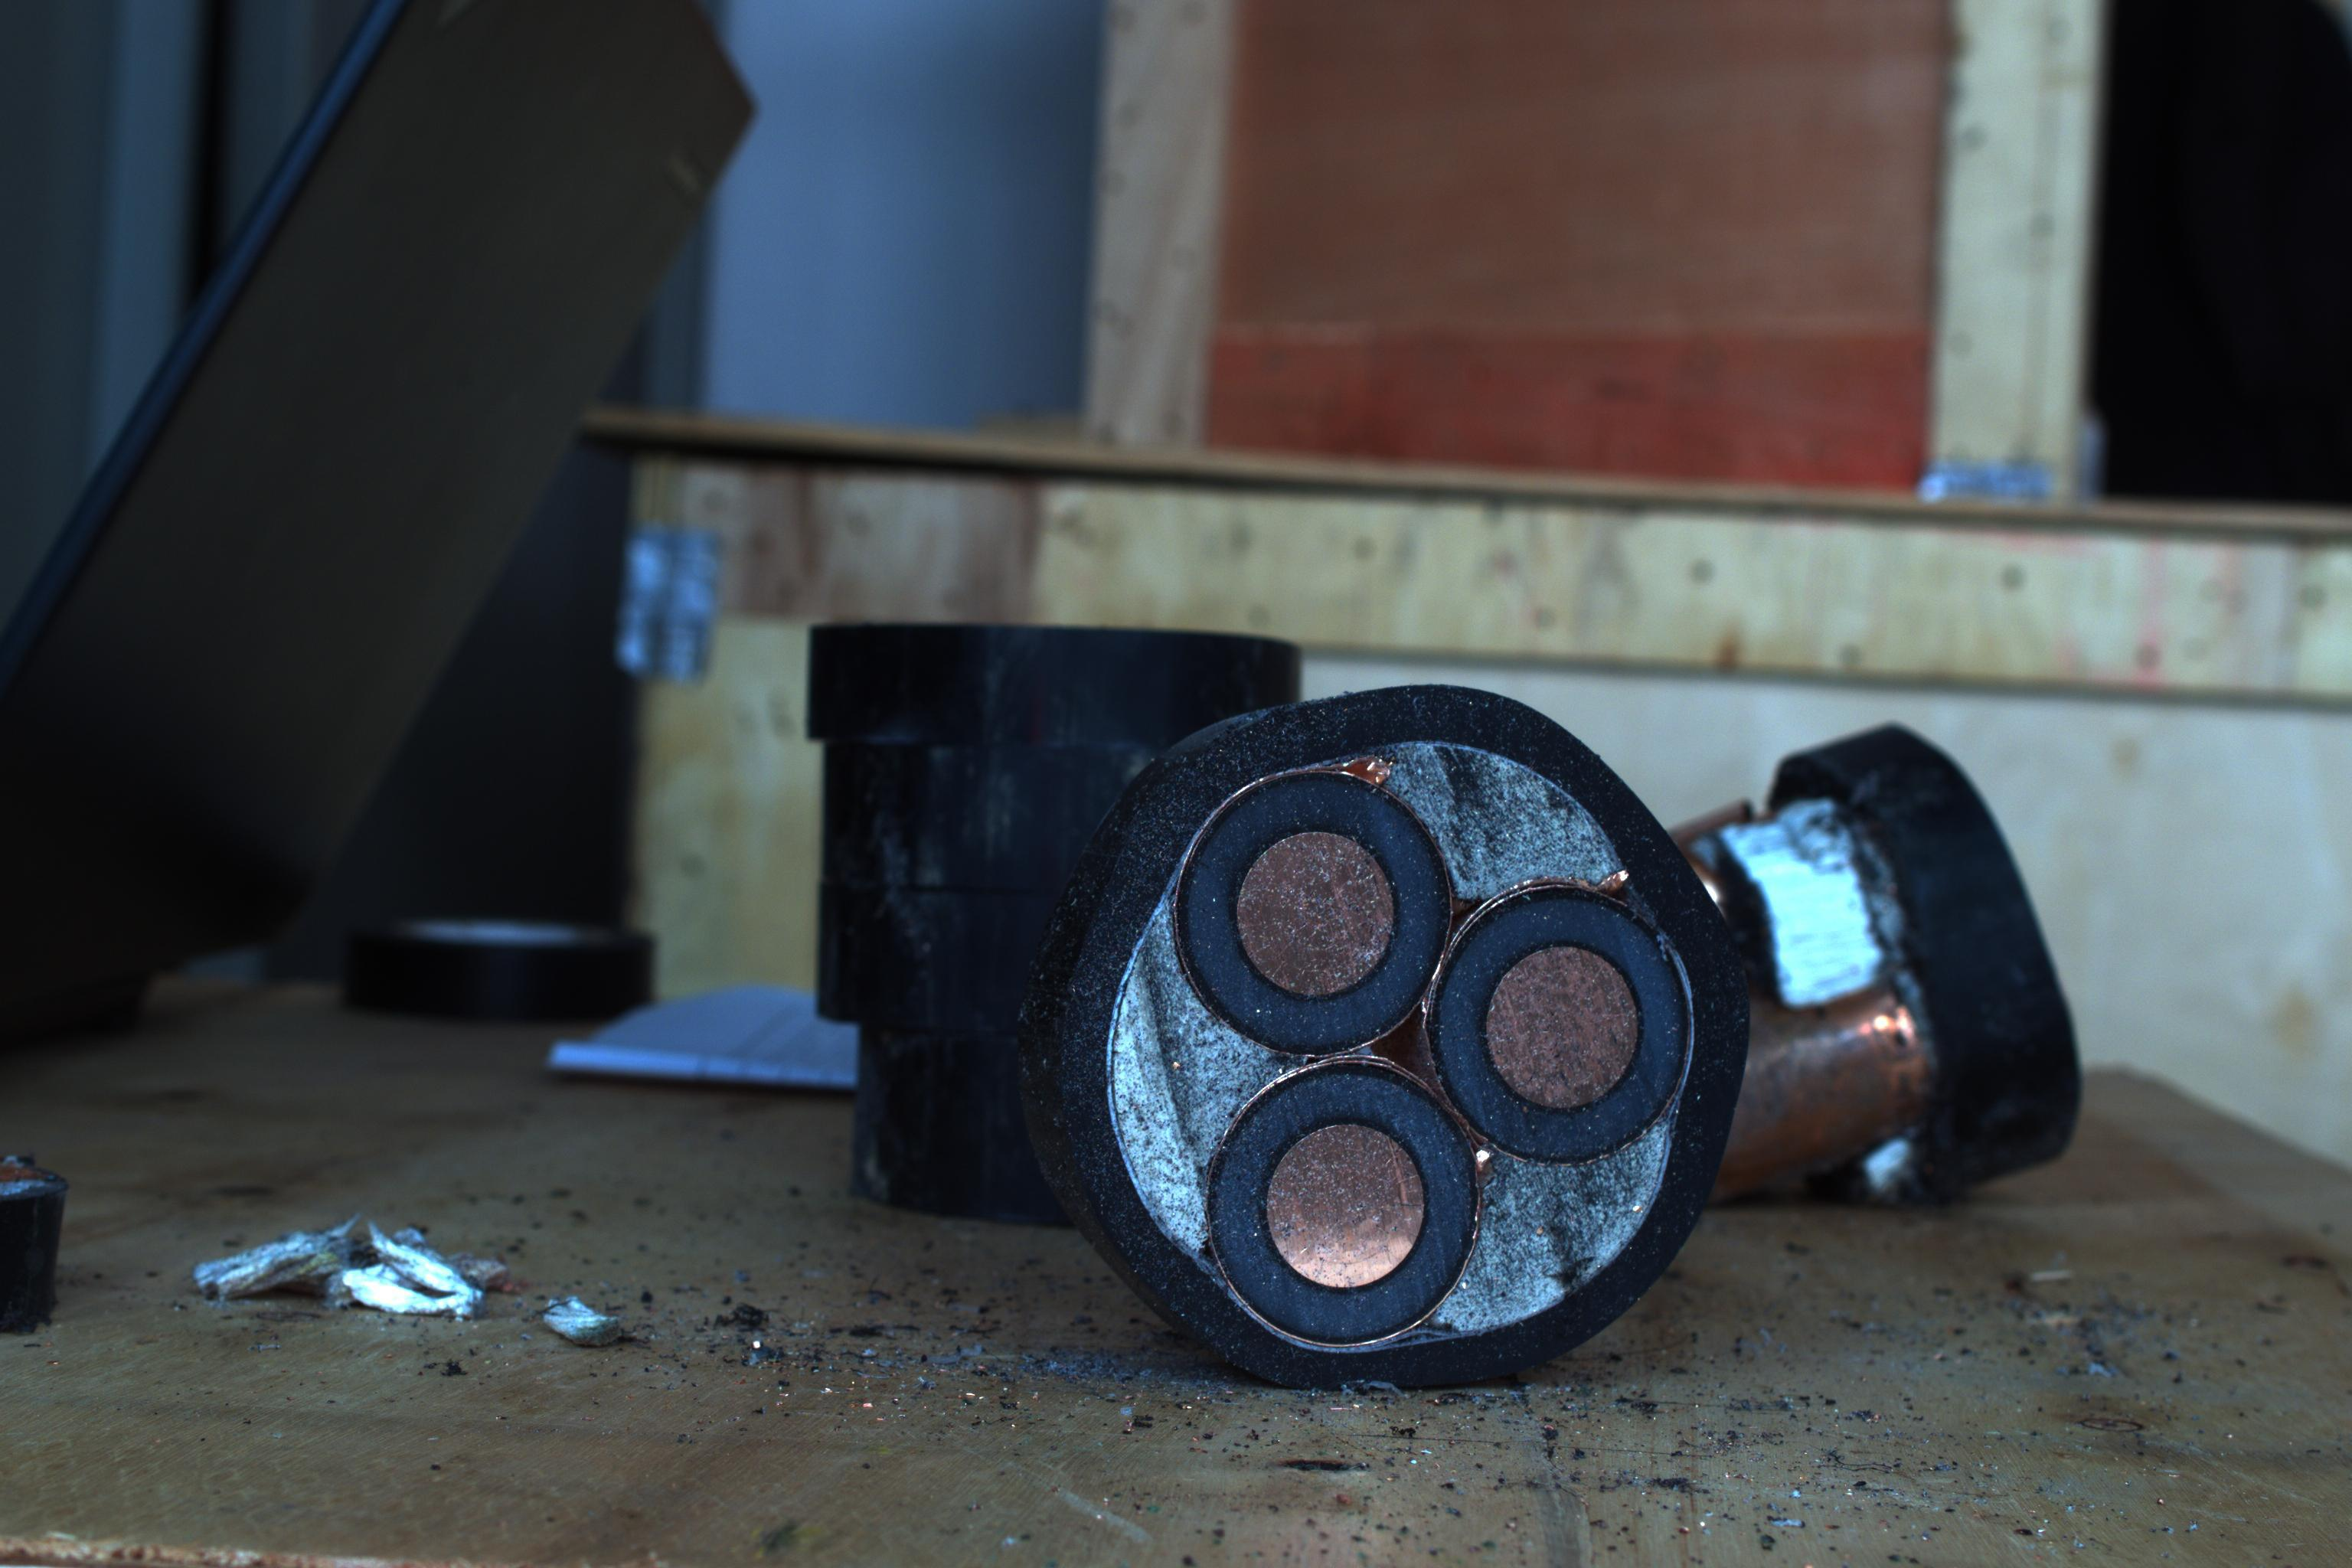ZA_YJV_8.7_10kV_3x240: (1087, 702, 1743, 1367)
